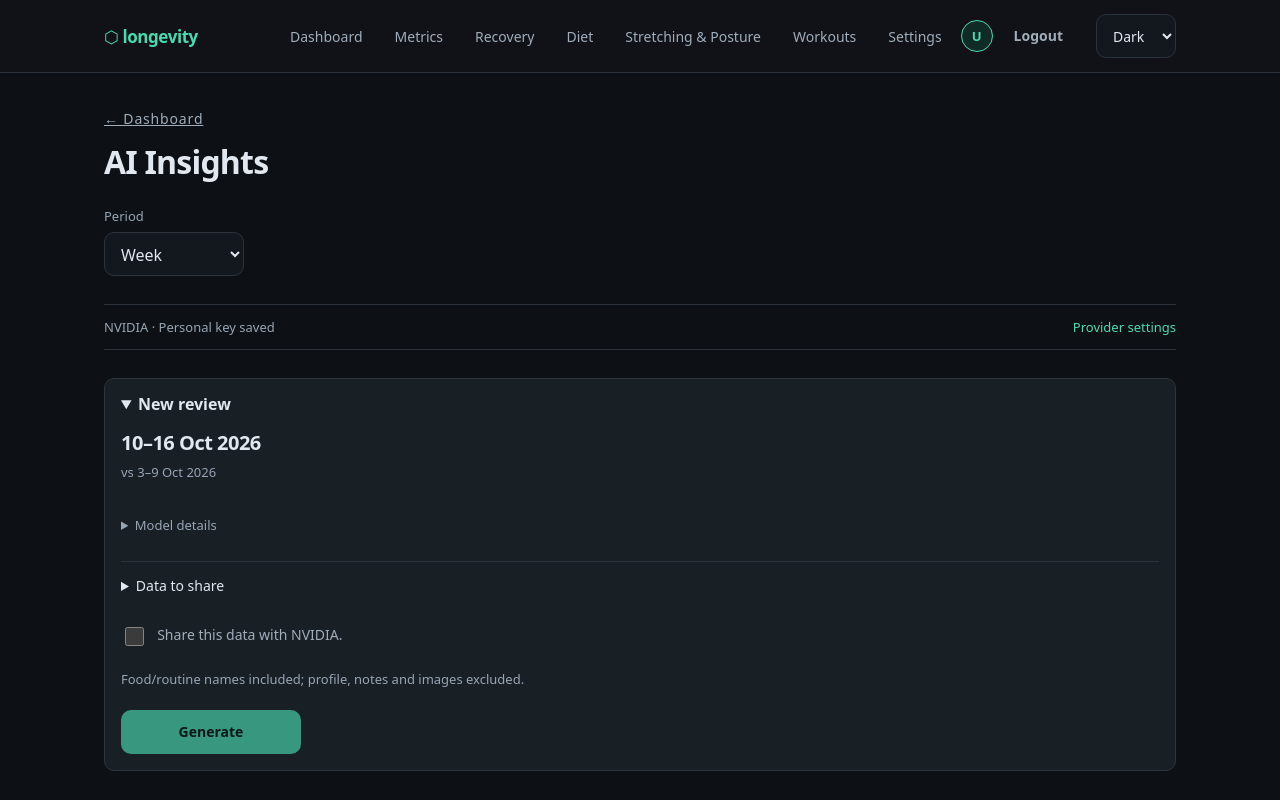
groups replacement and removal together without repeating provider instructions
expect the text "NVIDIA · Personal key saved" is shown: met, box x1=104 y1=318 x2=275 y2=336
Click the text "Provider settings" at coordinates (1124, 327), box x1=1073 y1=318 x2=1176 y2=336
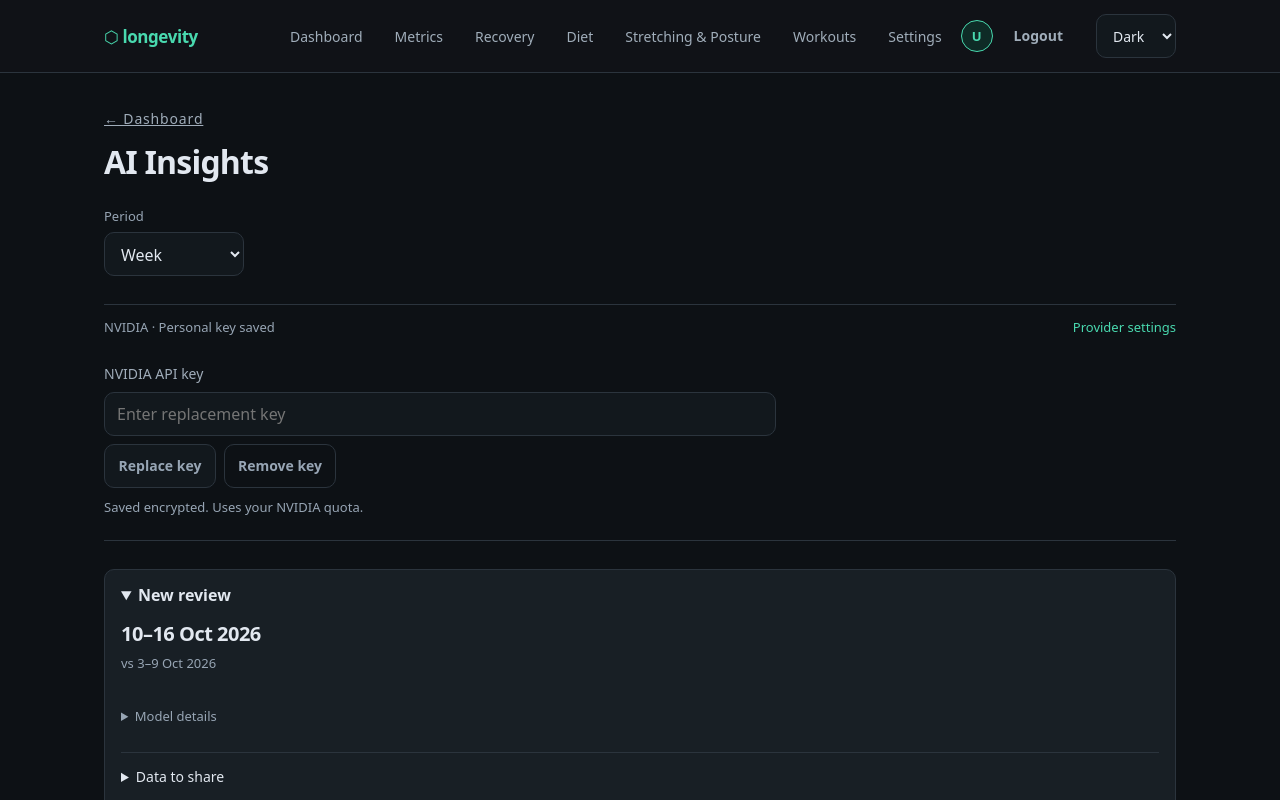
expect the button "Replace key" is disabled: met, box x1=104 y1=444 x2=216 y2=488
expect the button "Remove key" is shown: met, box x1=224 y1=444 x2=336 y2=488
